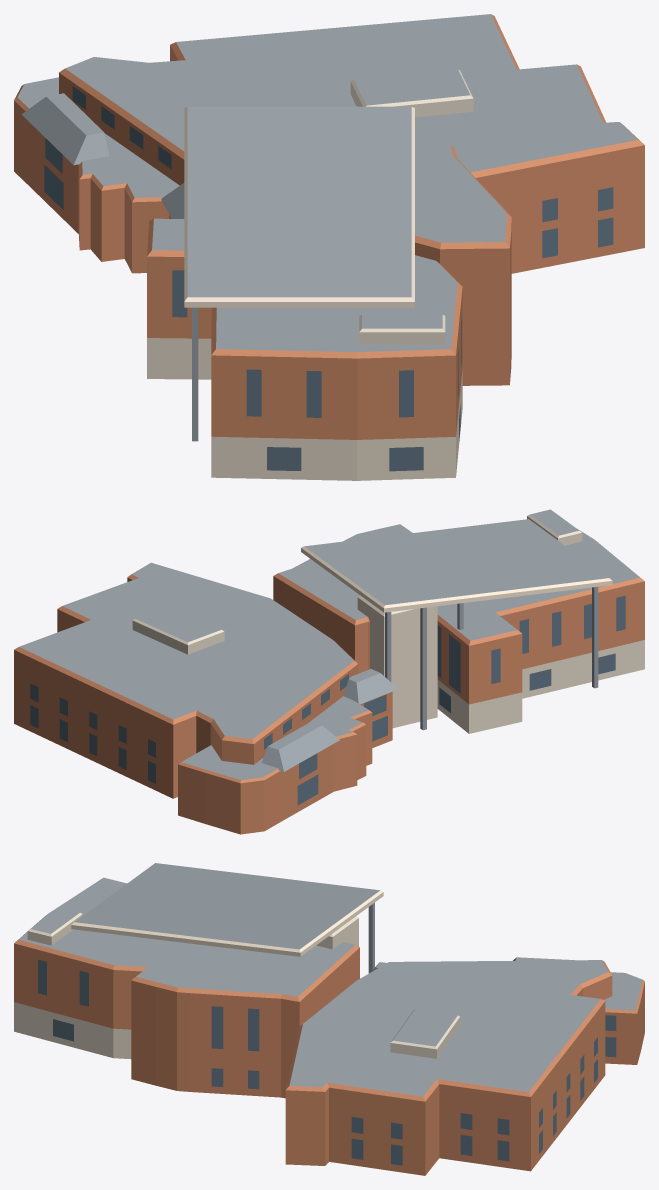
File: usnwc-lodge.glb
The picture shows the model from 3 angles, top to bottom: view 1: azimuth 30°, elevation 25°; view 2: azimuth 150°, elevation 25°; view 3: azimuth 270°, elevation 25°; orthographic projection. The views are drawn at different scales.
Visible parts, largest first — view 1: U.S. National Whitewater Center; view 2: U.S. National Whitewater Center; view 3: U.S. National Whitewater Center.
Boxes of the visible parts, x1,y1,x2,y2 form: U.S. National Whitewater Center: (14, 14, 644, 480); U.S. National Whitewater Center: (14, 509, 644, 834); U.S. National Whitewater Center: (14, 863, 644, 1175).
Size of the model in its own units: 63.7 by 19.36 by 81.3.
